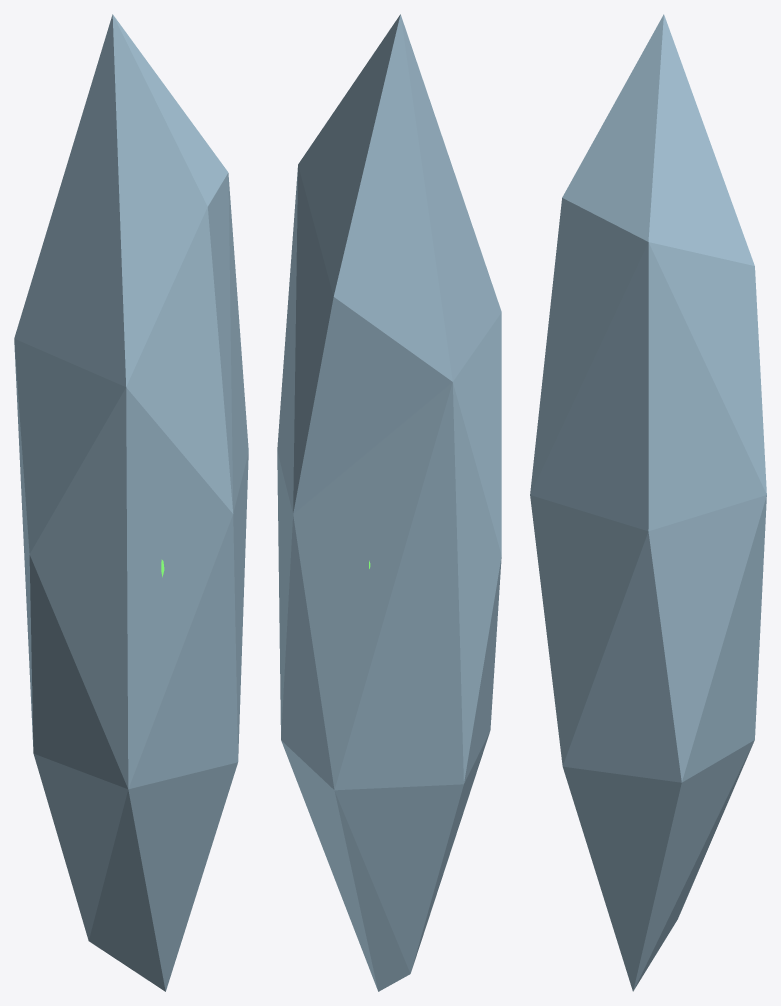
The model's file is Old Crystal.fbx.
The picture shows the model from 3 angles, left to right: view 1: azimuth 30°, elevation 25°; view 2: azimuth 150°, elevation 25°; view 3: azimuth 270°, elevation 25°; orthographic projection. The views are drawn at different scales.
Visible parts, largest first — view 1: Icosphere.001; view 2: Icosphere.001; view 3: Icosphere.001.
Part boxes in pixels (x1,y1,x2,y2): Icosphere.001: (14, 14, 248, 991); Icosphere.001: (277, 14, 501, 991); Icosphere.001: (530, 14, 766, 991).
Bounding box in the file's own units: 209 × 888 × 199.
Materials: 2 (1 with a texture image).
